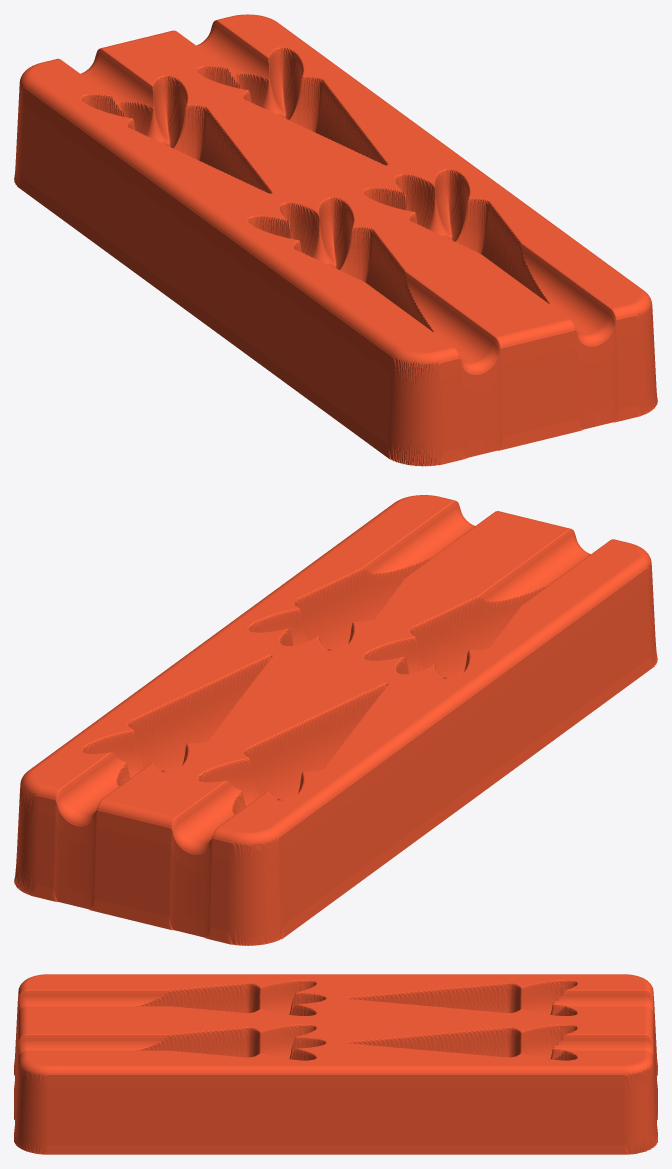
File: mold.glb
3 renders of one model, top to bottom at view 1: azimuth 30°, elevation 25°; view 2: azimuth 150°, elevation 25°; view 3: azimuth 270°, elevation 25°, orthographic. The views are drawn at different scales.
Parts seen in each view (by area): view 1: geometry_0; view 2: geometry_0; view 3: geometry_0.
Boxes of the visible parts, <box> form: geometry_0: <box>14,14,657,466</box>; geometry_0: <box>14,495,657,945</box>; geometry_0: <box>14,974,657,1154</box>.
Bounding box in the file's own units: 0.0639 × 0.0245 × 0.171.
